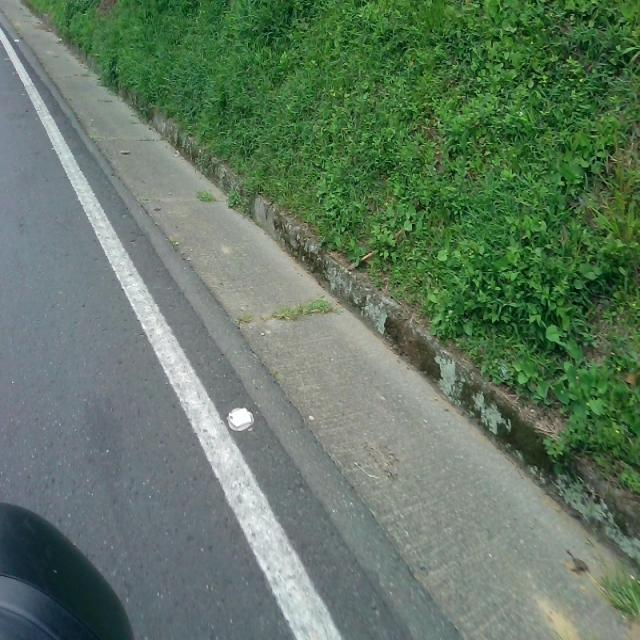DITCH: (2, 1, 638, 638), (1, 2, 638, 637), (1, 17, 638, 638)
